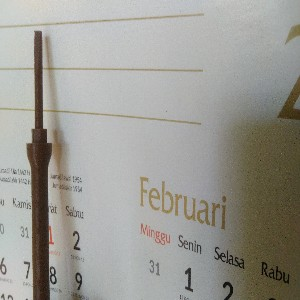obeng: (25, 29, 52, 300)
